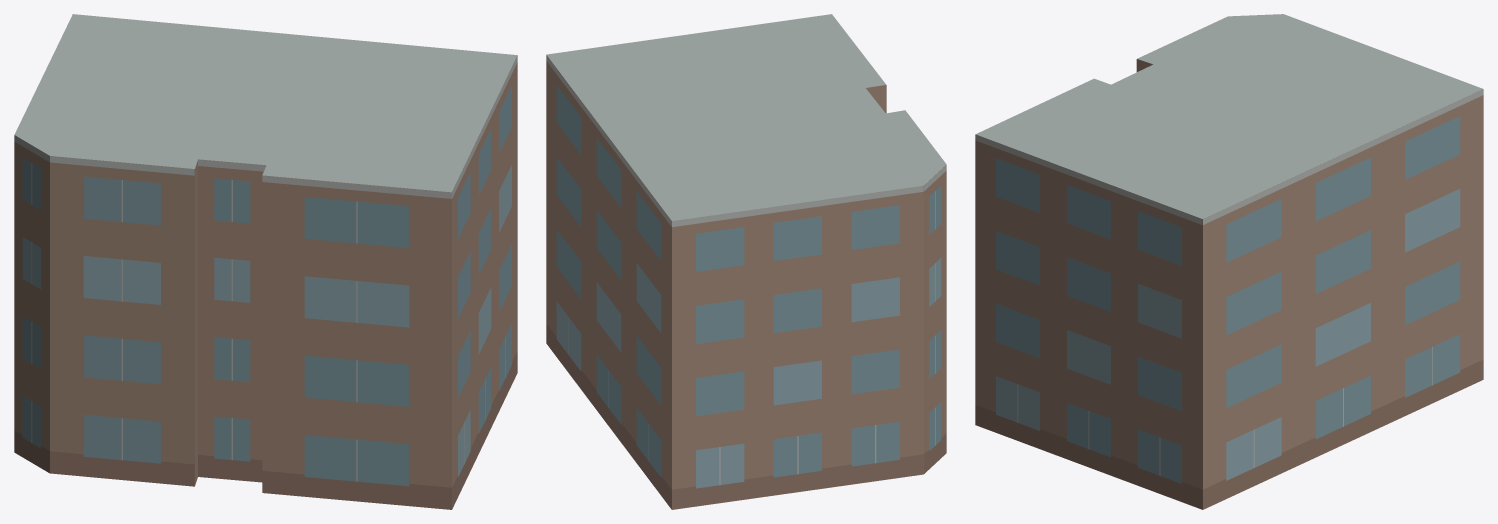
The model's file is survey-upis-32524063.glb.
The picture shows the model from 3 angles, left to right: view 1: azimuth 30°, elevation 25°; view 2: azimuth 150°, elevation 25°; view 3: azimuth 270°, elevation 25°; orthographic projection. The views are drawn at different scales.
Visible parts, largest first — view 1: survey-upis-32524063.tmp; view 2: survey-upis-32524063.tmp; view 3: survey-upis-32524063.tmp.
Boxes of the visible parts, left/top/right/bottom form: survey-upis-32524063.tmp: left=14, top=14, right=517, bottom=509; survey-upis-32524063.tmp: left=546, top=14, right=946, bottom=509; survey-upis-32524063.tmp: left=975, top=14, right=1483, bottom=509.
Size of the model in its own units: 17.72 by 11.7 by 18.54.
